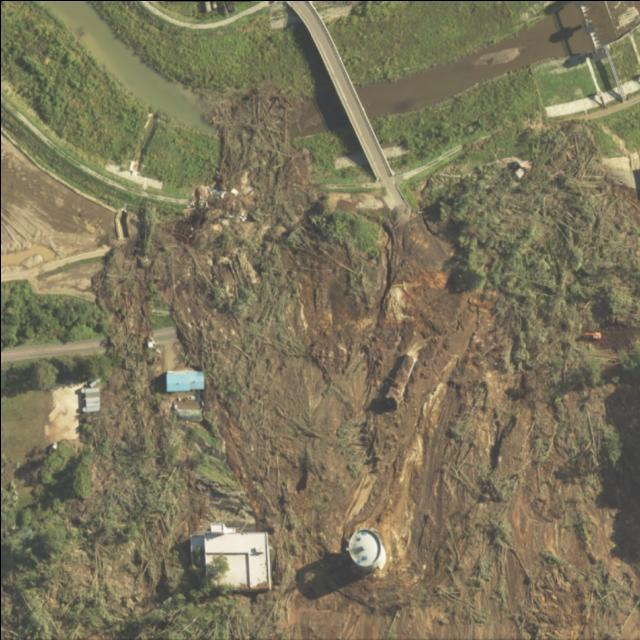landslide: (0, 96, 640, 639)
